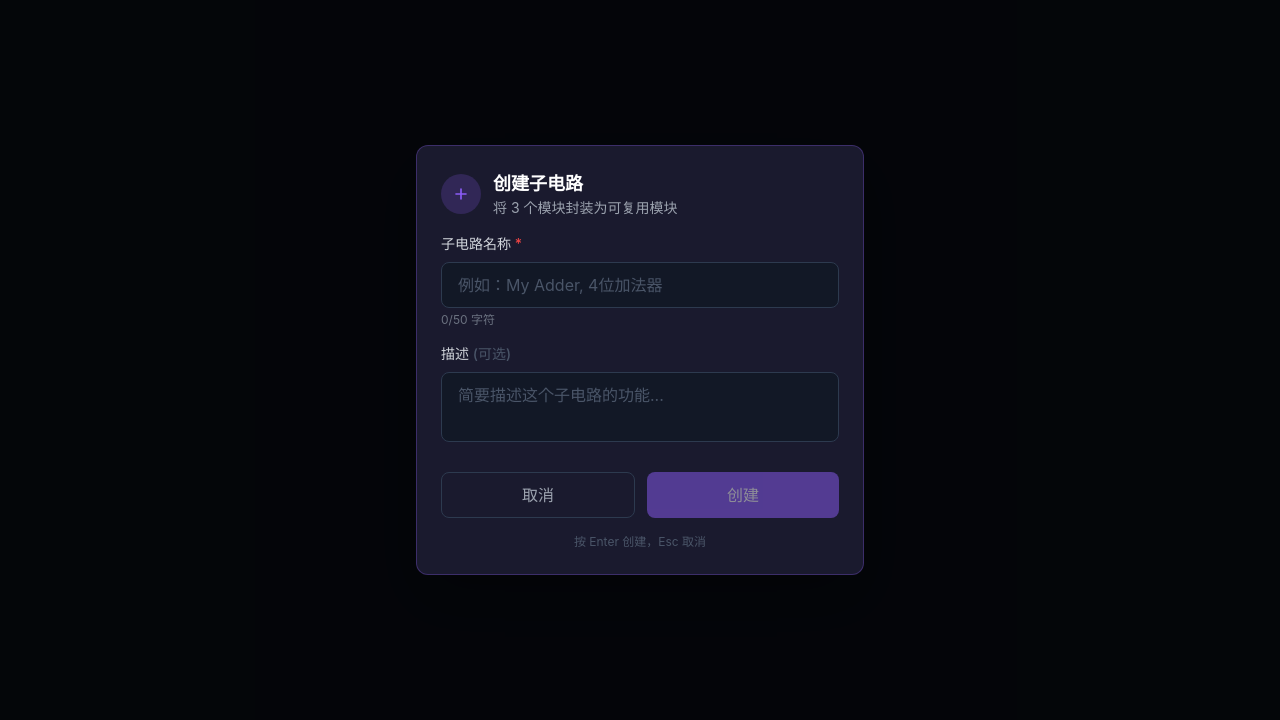
Test case: CreateSubCircuitModal Lifecycle › Modal validation behavior › should show error for duplicate name
The width and height of the screenshot is (1280, 720).
Type "Existing Name" into the field labelled "子电路名称 *".
click(640, 285); type("Existing Name")  # box [441,262,839,308]
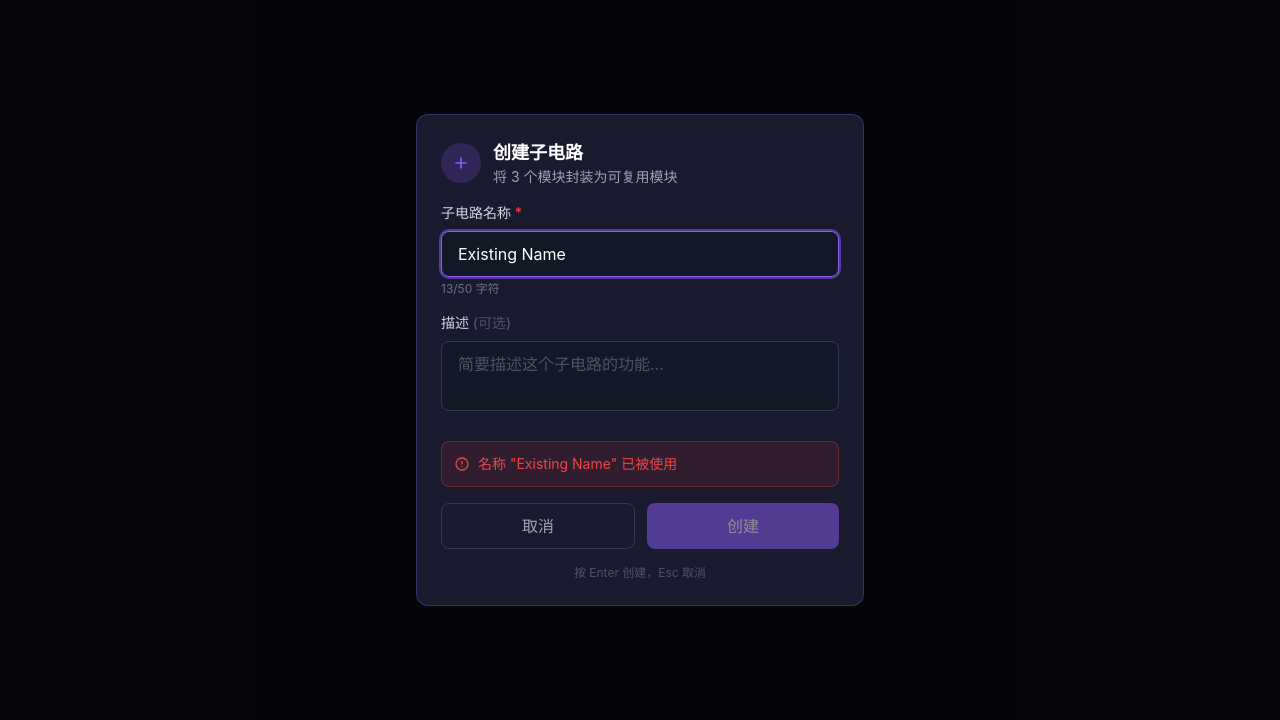
Expected: the text "名称 \"Existing Name\" 已被使用" is shown, [454,455,677,472]
